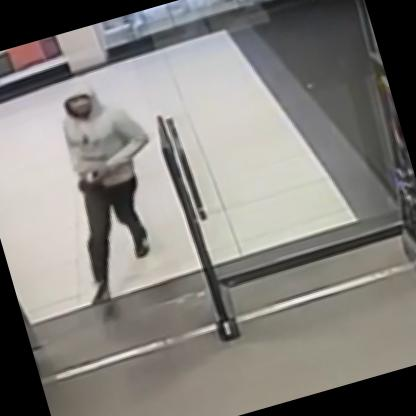Human Body: (31, 70, 194, 311)
